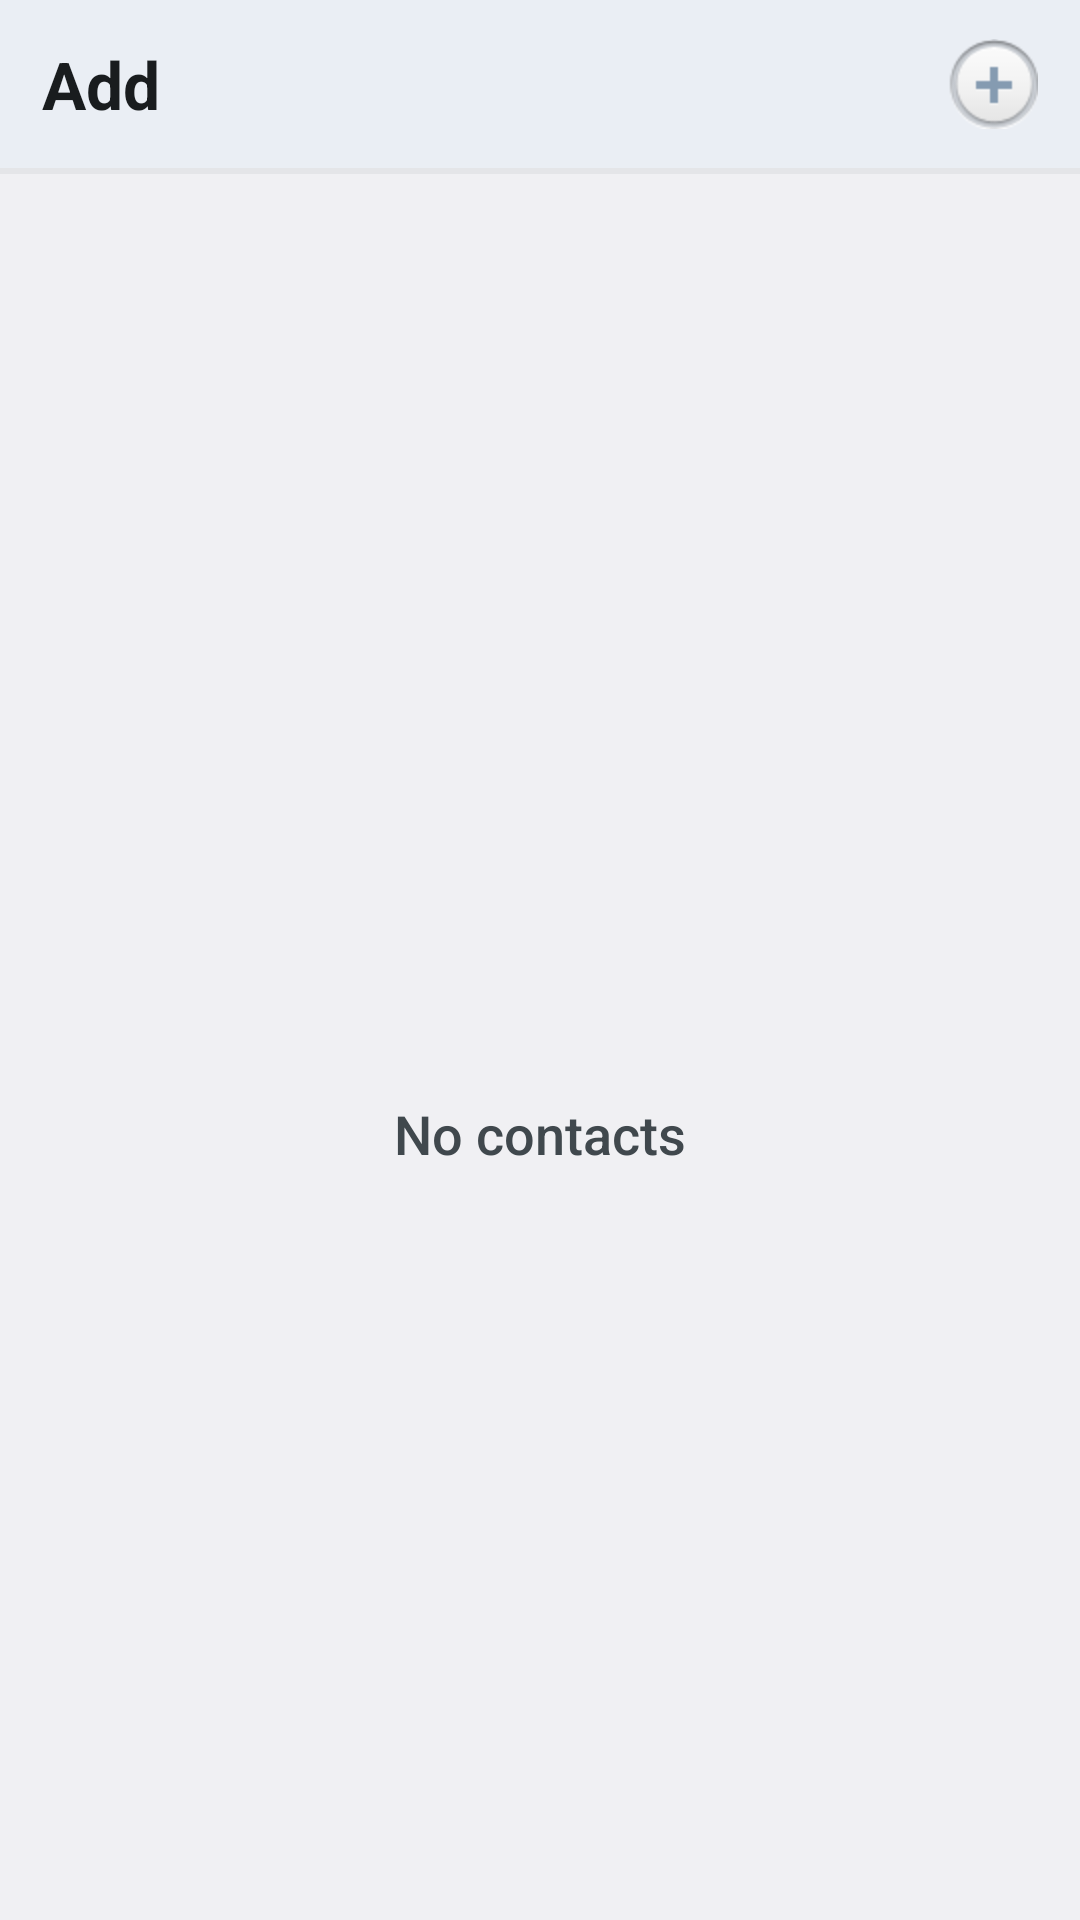

Locate icon controls on the screen. Image size 1080x1920, boxes as {"x1": x1, "y1": y1, "x2": x2, "y2": y2}.
list add: {"x1": 950, "y1": 39, "x2": 1038, "y2": 127}
